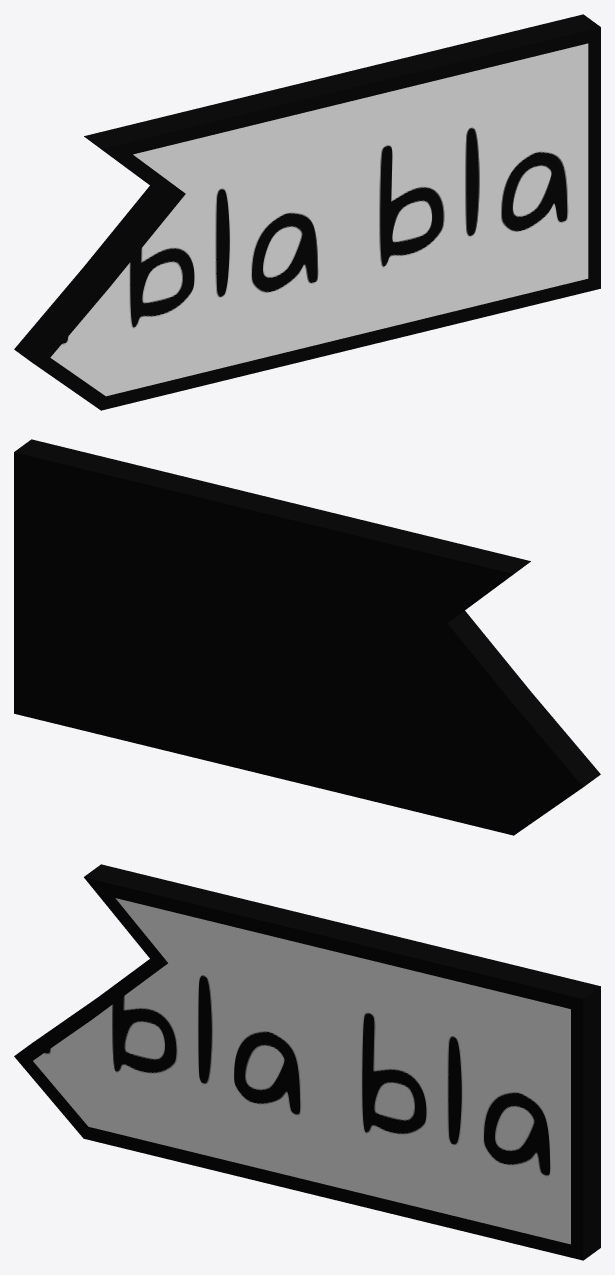
File: mdl_poland_poempieces_10.gltf
The picture shows the model from 3 angles, top to bottom: view 1: azimuth 30°, elevation 25°; view 2: azimuth 150°, elevation 25°; view 3: azimuth 330°, elevation 25°; orthographic projection.
Parts seen in each view (by area): view 1: Plane.012; view 2: Plane.012; view 3: Plane.012.
Part boxes in pixels (<box>): Plane.012: <box>14,14,600,410</box>; Plane.012: <box>14,439,600,835</box>; Plane.012: <box>14,864,600,1260</box>.
Bounding box in the file's own units: 0.5696 × 0.25 × 0.0304.
Materials: 2 (2 with a texture image).
